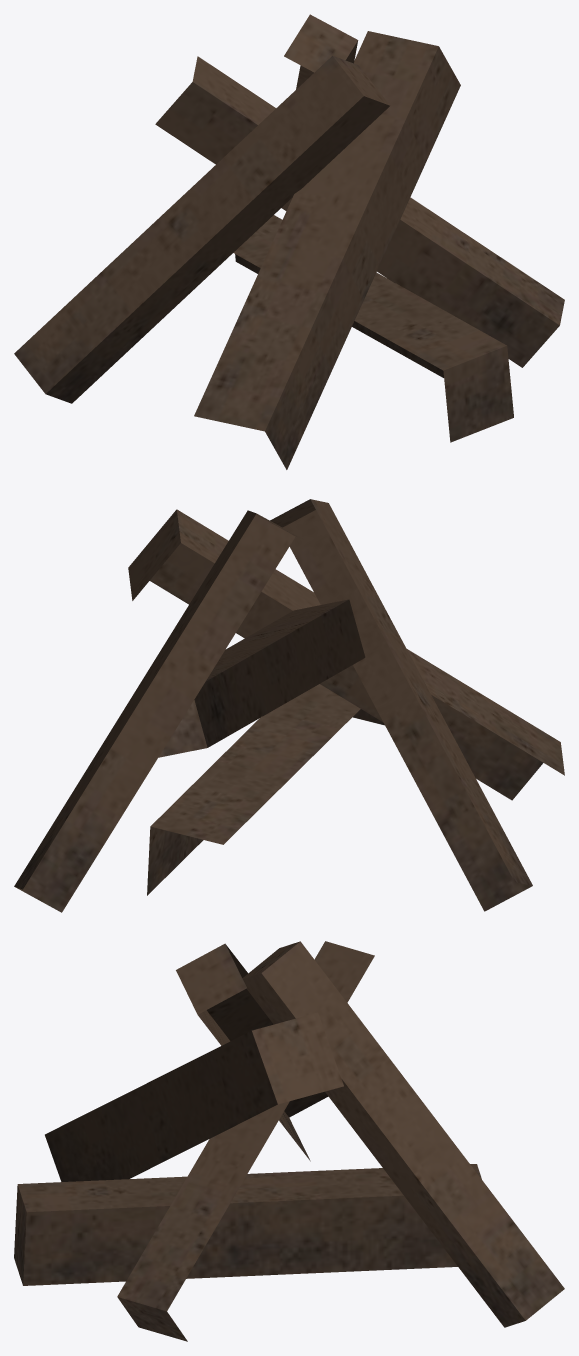
Rendered from Bonfire_to_Unity.fbx.
3 renders of one model, top to bottom at view 1: azimuth 30°, elevation 25°; view 2: azimuth 150°, elevation 25°; view 3: azimuth 270°, elevation 25°, orthographic.
Visible parts, largest first — view 1: Bonfire; view 2: Bonfire; view 3: Bonfire.
Part boxes in pixels (x1=…): Bonfire: x1=14, y1=14, x2=564, y2=469; Bonfire: x1=14, y1=499, x2=564, y2=912; Bonfire: x1=14, y1=941, x2=564, y2=1341.
Size of the model in its own units: 43.72 by 31.08 by 45.34.
